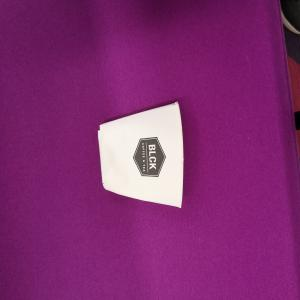Cup: (98, 101, 185, 211)
